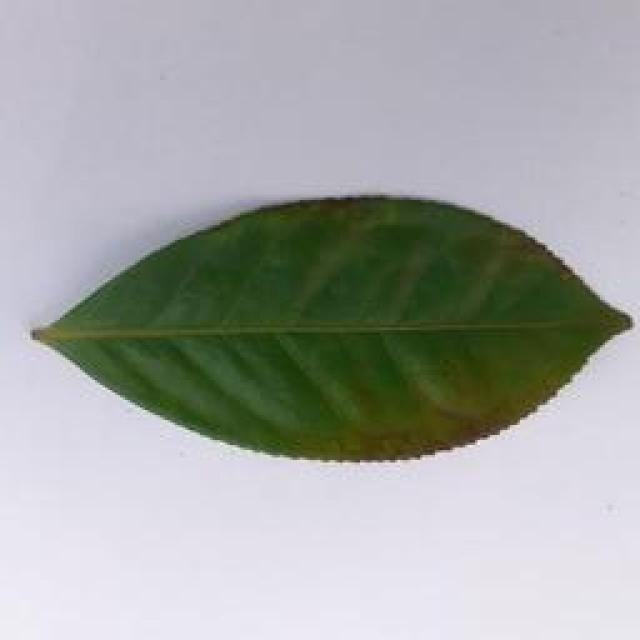Red Leaf Spot: (0, 188, 633, 481)
